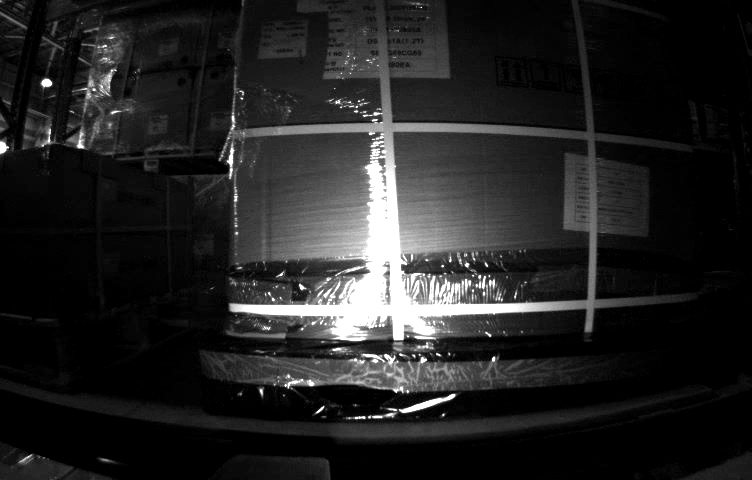True Barcode: (260, 20, 307, 57)
